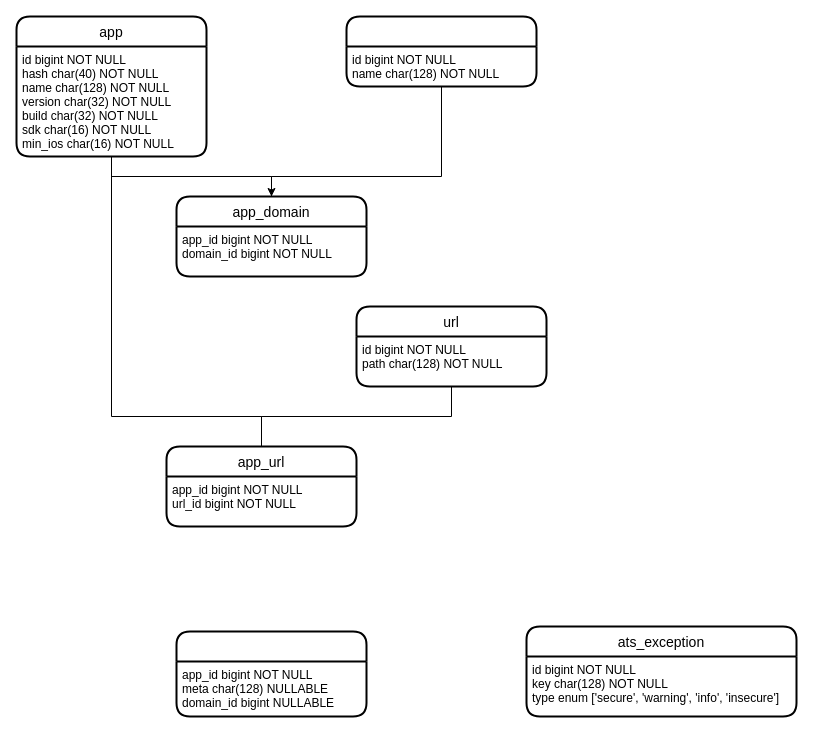
Image size: 813x733. Some labels were removed from this diagram. The box of each missing label's shape, as (x1, y1, x2, y2) in pixels:
app_ats_exception: (175, 630, 367, 717)
domain: (345, 15, 537, 87)
